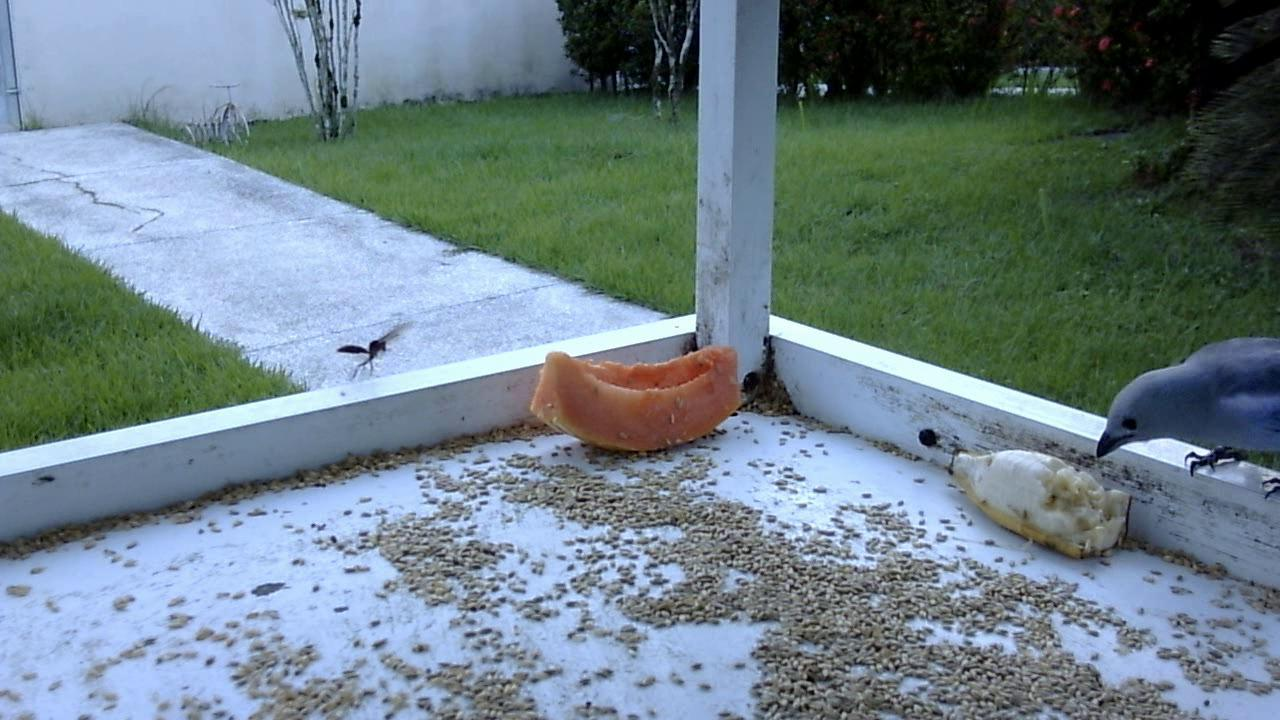sanhaco_da_amazonia: (1084, 330, 1278, 501)
